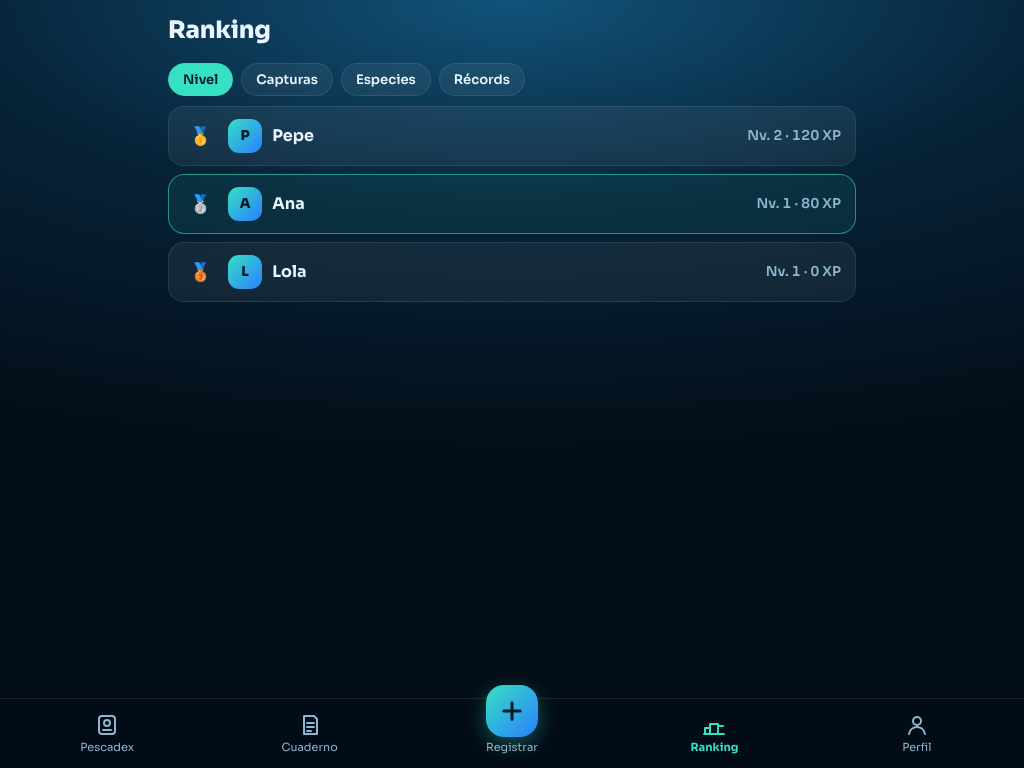
ordena por capturas válidas (con foto)
This screenshot has width=1024, height=768.
Click the button "Capturas": (287, 79) [241,63,333,96]
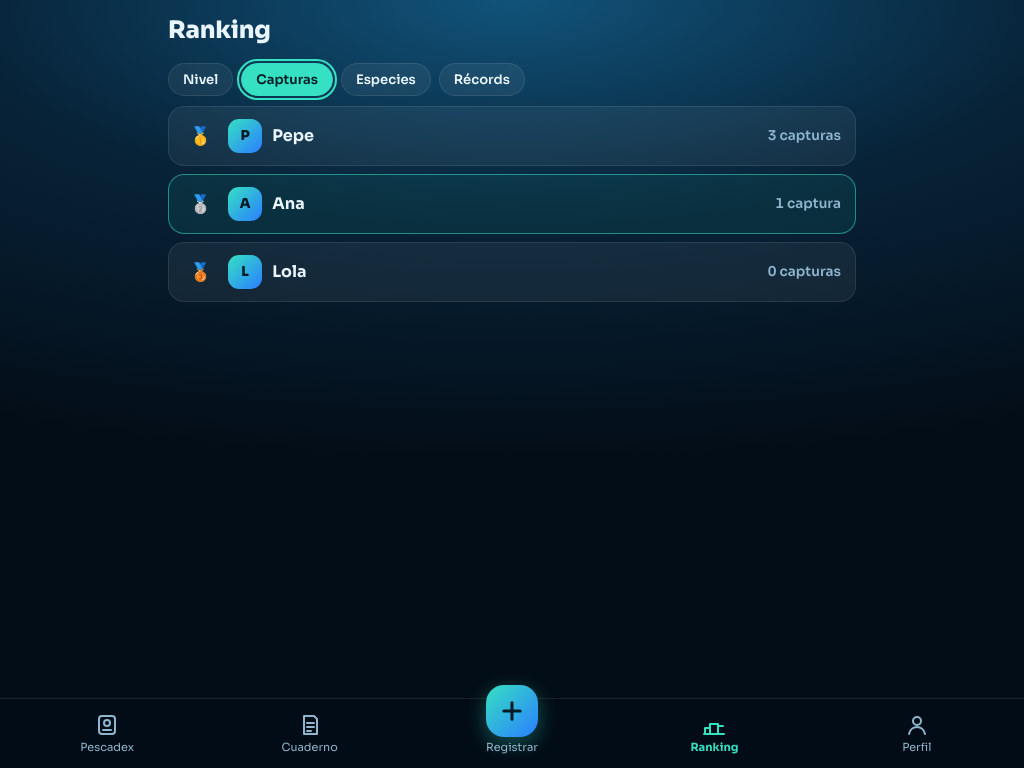
Expected: the list item with test id "rank-row" reads "🥈 A Ana 1 captura", [168,174,856,234]
Now the list item with test id "rank-row" reads "🥇 P Pepe 3 capturas", box [168,106,856,166]
